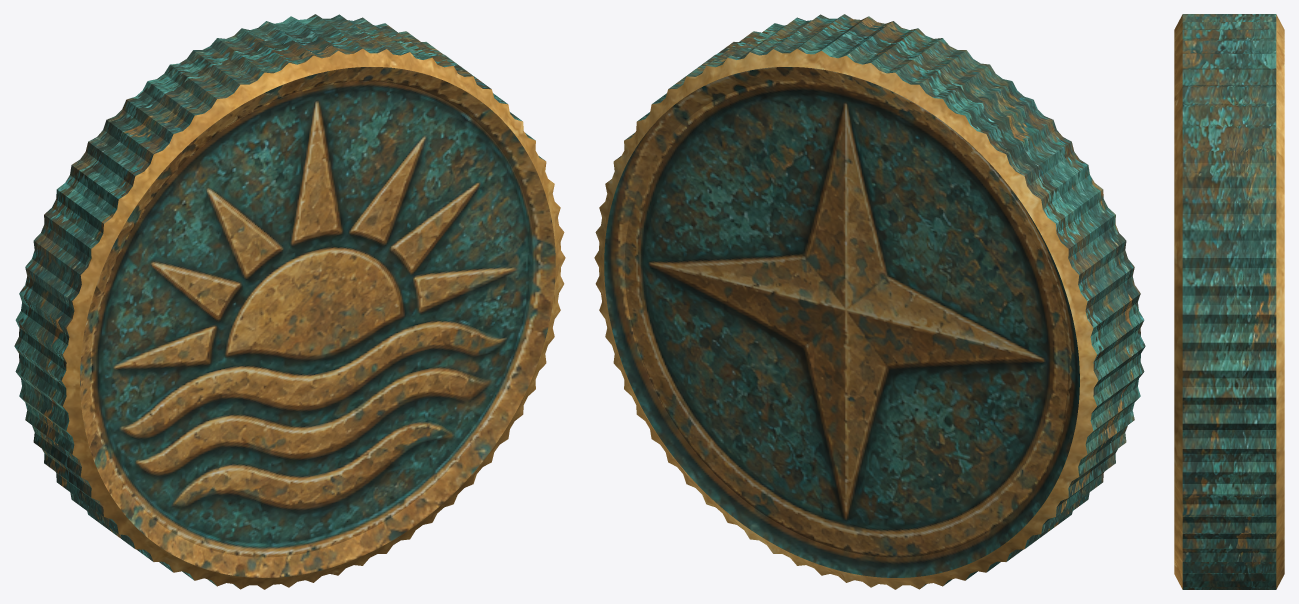
Rendered from verdigris_coin.obj.
3 views of the same model, side by side, from view 1: azimuth 30°, elevation 25°; view 2: azimuth 150°, elevation 25°; view 3: azimuth 270°, elevation 25° (orthographic).
Parts seen in each view (by area): view 1: A_ClosedCoinRaisedRimAnd64EdgeReeds.001_verdigris_coin_coin_fron, A_ClosedCoinRaisedRimAnd64EdgeReeds.001_verdigris_coin_bronze, A_ClosedCoinRaisedRimAnd64EdgeReeds.001_verdigris_coin_gold; view 2: A_ClosedCoinRaisedRimAnd64EdgeReeds.001_verdigris_coin_coin_back, A_ClosedCoinRaisedRimAnd64EdgeReeds.001_verdigris_coin_bronze, A_ClosedCoinRaisedRimAnd64EdgeReeds.001_verdigris_coin_gold; view 3: A_ClosedCoinRaisedRimAnd64EdgeReeds.001_verdigris_coin_bronze, A_ClosedCoinRaisedRimAnd64EdgeReeds.001_verdigris_coin_gold.
Boxes of the visible parts, box(x1,y1,x2,y2) form: A_ClosedCoinRaisedRimAnd64EdgeReeds.001_verdigris_coin_coin_fron: box(80, 67, 555, 577); A_ClosedCoinRaisedRimAnd64EdgeReeds.001_verdigris_coin_bronze: box(14, 14, 544, 588); A_ClosedCoinRaisedRimAnd64EdgeReeds.001_verdigris_coin_gold: box(61, 48, 565, 589); A_ClosedCoinRaisedRimAnd64EdgeReeds.001_verdigris_coin_coin_back: box(604, 67, 1079, 577); A_ClosedCoinRaisedRimAnd64EdgeReeds.001_verdigris_coin_bronze: box(615, 14, 1145, 588); A_ClosedCoinRaisedRimAnd64EdgeReeds.001_verdigris_coin_gold: box(594, 48, 1098, 589); A_ClosedCoinRaisedRimAnd64EdgeReeds.001_verdigris_coin_bronze: box(1182, 14, 1276, 589); A_ClosedCoinRaisedRimAnd64EdgeReeds.001_verdigris_coin_gold: box(1174, 14, 1284, 589).
Bounding box in the file's own units: 2.02 × 2.02 × 0.3884.
Materials: 4 (4 with a texture image).
